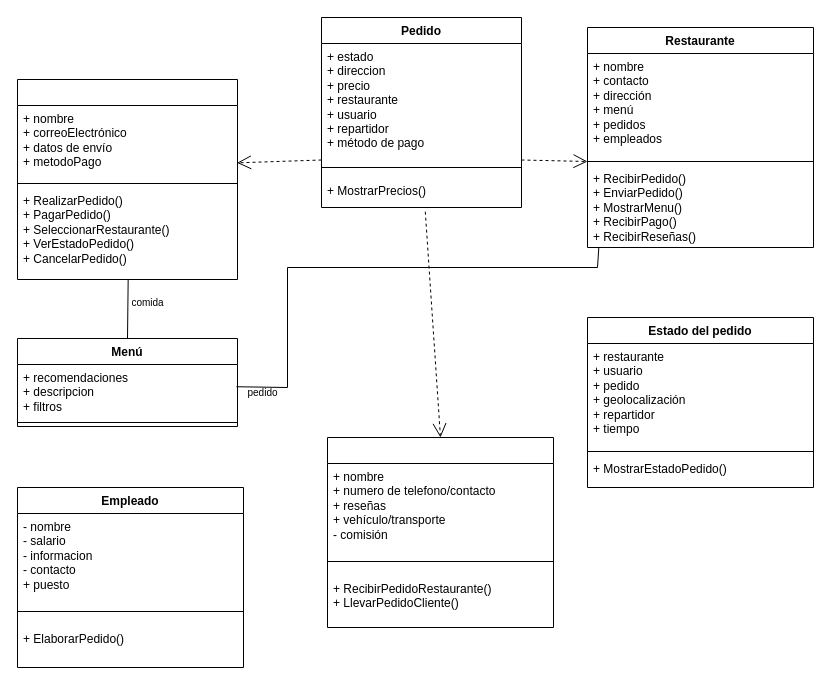
The diagram is 831 pixels wide and 688 high, and some of its shapes have lost their labels. The shapes that lost their labels are listed below. From the top down, each one's box as (x1, y1, x2, y2) in pixels, then its label:
(16, 78, 238, 280): Usuario
(326, 436, 554, 628): Repartidor
